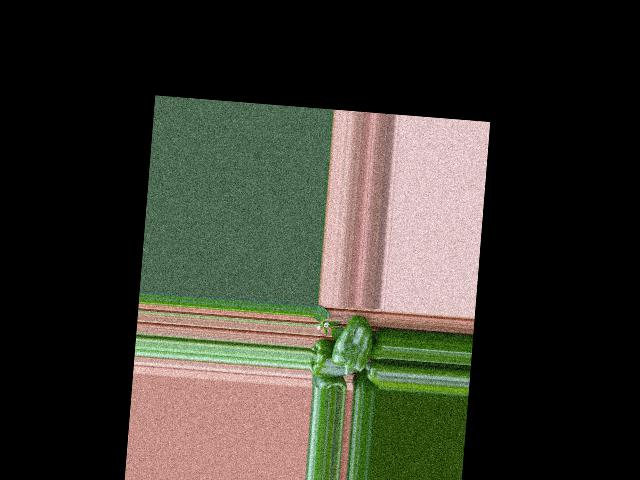bell_pepper: (362, 362, 382, 390)
